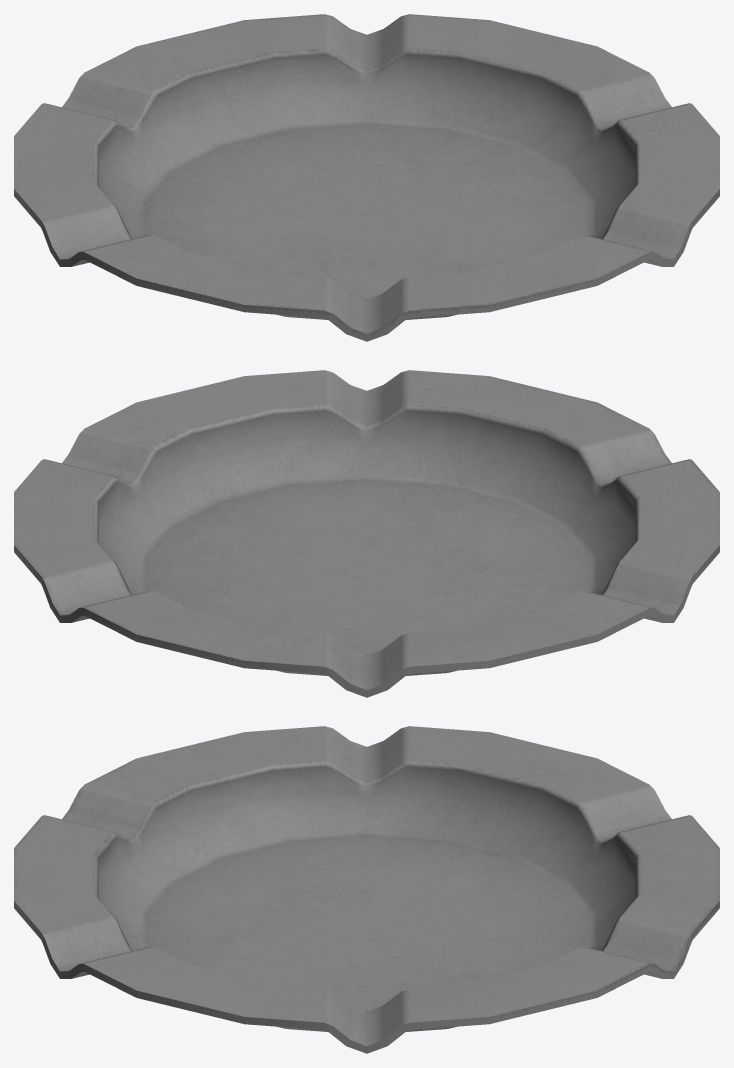
File: Ashtray.FBX
The picture shows the model from 3 angles, top to bottom: view 1: azimuth 30°, elevation 25°; view 2: azimuth 150°, elevation 25°; view 3: azimuth 270°, elevation 25°; orthographic projection.
Visible parts, largest first — view 1: Ashtray; view 2: Ashtray; view 3: Ashtray.
Part boxes in pixels (bbox=[...]): Ashtray: bbox=[14, 14, 719, 341]; Ashtray: bbox=[14, 370, 719, 697]; Ashtray: bbox=[14, 726, 719, 1053].
Size of the model in its own units: 12.98 by 1.29 by 12.93.
